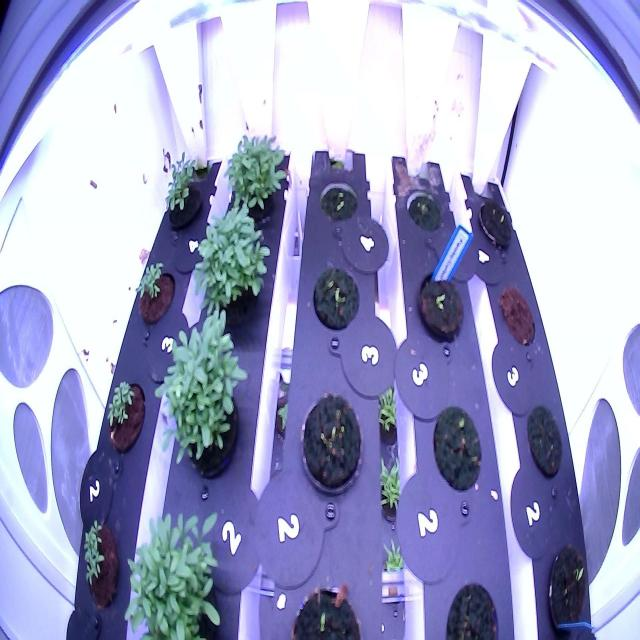germination: (284, 575, 364, 638), (543, 543, 592, 636), (78, 512, 122, 612), (156, 148, 204, 238), (416, 262, 466, 348), (308, 262, 362, 337), (104, 373, 147, 456), (133, 257, 177, 334), (476, 192, 514, 250), (317, 178, 360, 228)
pod: (296, 386, 364, 504), (428, 397, 484, 501), (438, 580, 502, 640), (524, 400, 567, 485), (496, 278, 538, 350), (402, 182, 445, 238)
